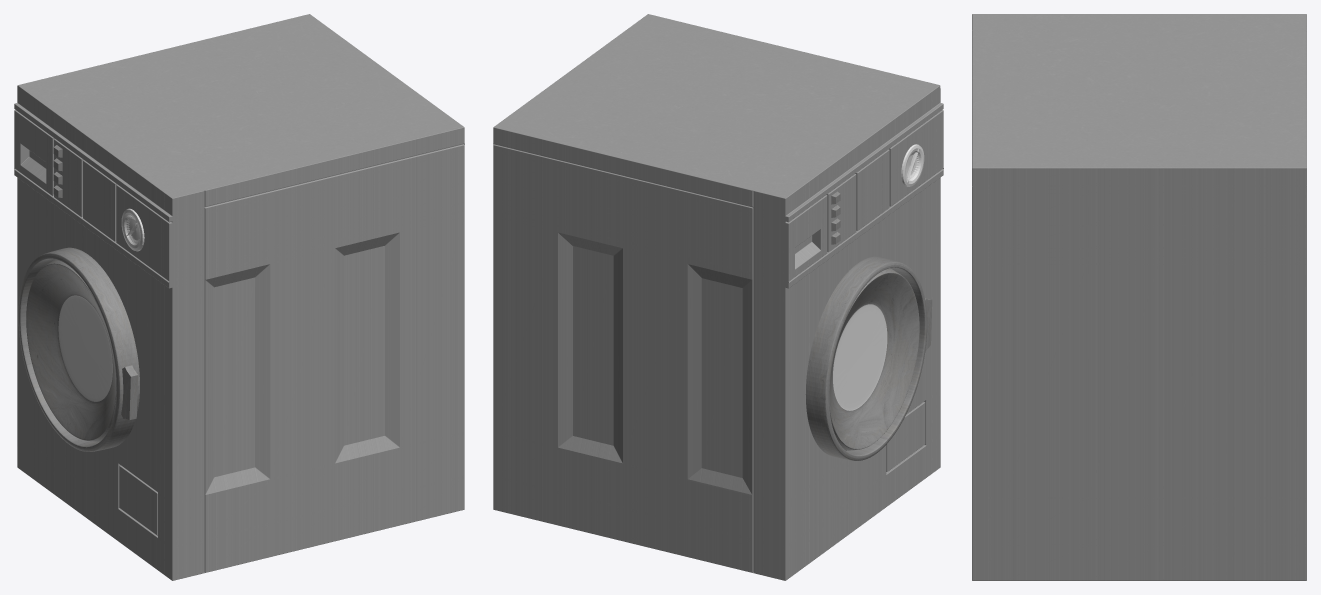
3 views of the same model, side by side, from view 1: azimuth 30°, elevation 25°; view 2: azimuth 150°, elevation 25°; view 3: azimuth 270°, elevation 25° (orthographic). The views are drawn at different scales.
Parts seen in each view (by area): view 1: Plane, Cylinder, Cube, Cylinder.001; view 2: Plane, Cylinder, Cylinder.001; view 3: Plane.
Boxes of the visible parts, x1,y1,x2,y2 form: Plane: (14, 14, 464, 580); Cylinder: (18, 247, 139, 451); Cube: (121, 365, 137, 420); Cylinder.001: (121, 208, 144, 251); Plane: (493, 14, 943, 580); Cylinder: (805, 256, 927, 460); Cylinder.001: (901, 144, 924, 186); Plane: (972, 14, 1306, 580).
Size of the model in its own units: 250 by 292 by 214.
Materials: 4 (2 with a texture image).
